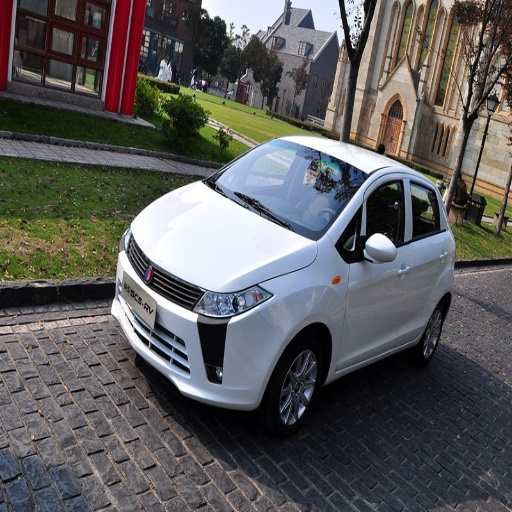front_bumper: (118, 250, 284, 409)
front_glass: (204, 140, 364, 239)
front_left_door: (339, 172, 412, 365)
